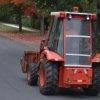Tractor: (24, 11, 100, 100)
